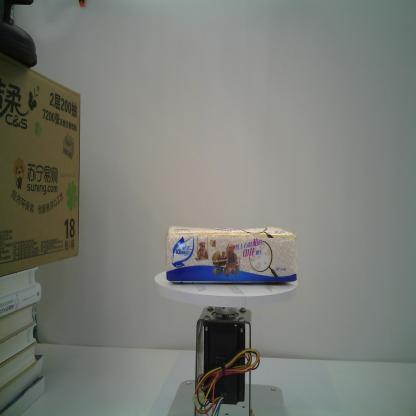Tissue: (165, 223, 298, 285)
